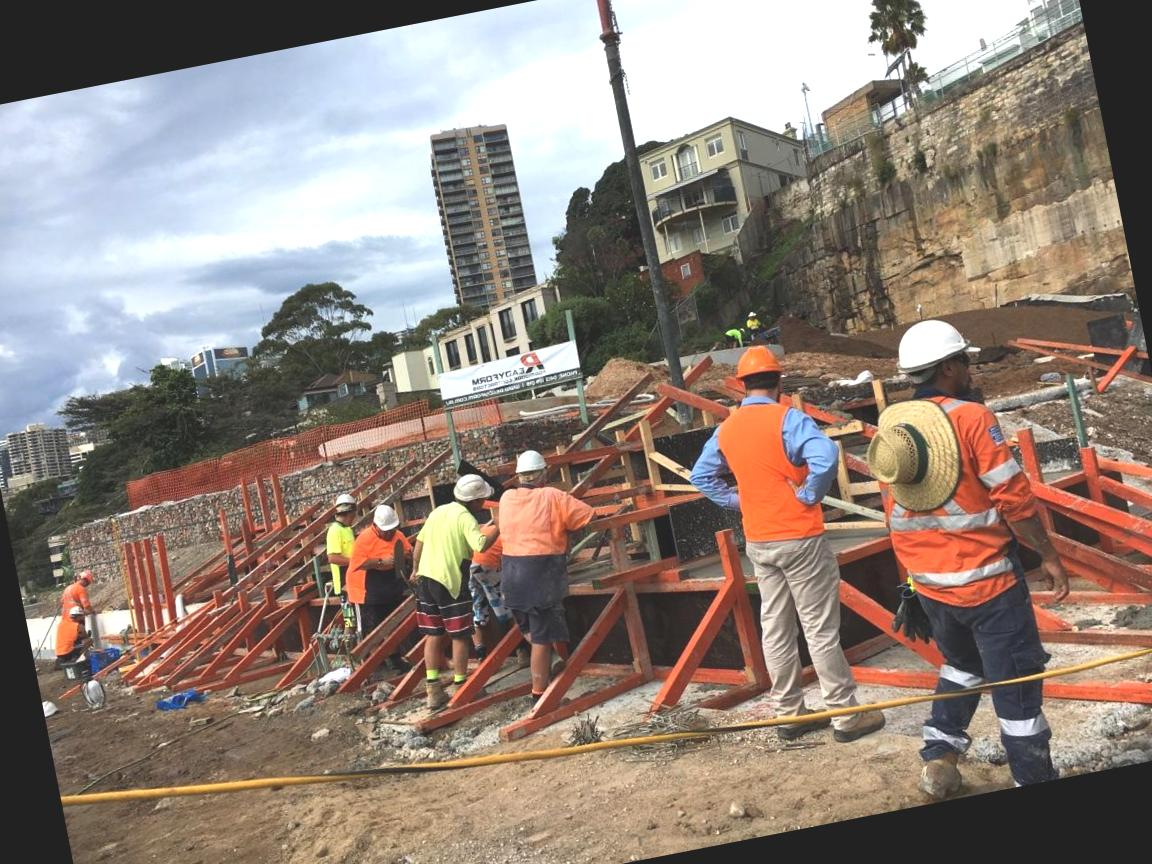helmet: (888, 306, 970, 380), (728, 337, 784, 387), (445, 467, 495, 505), (512, 446, 547, 474), (370, 503, 396, 534)
no_vest: (496, 481, 572, 568), (414, 497, 482, 584)
person: (818, 290, 1095, 807), (668, 324, 894, 764), (378, 461, 538, 728), (472, 439, 614, 699), (325, 489, 428, 640), (310, 486, 374, 618)
